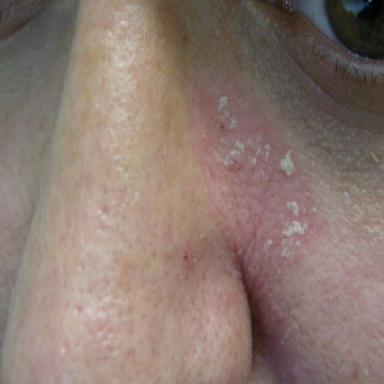eczema: (190, 86, 323, 381)
